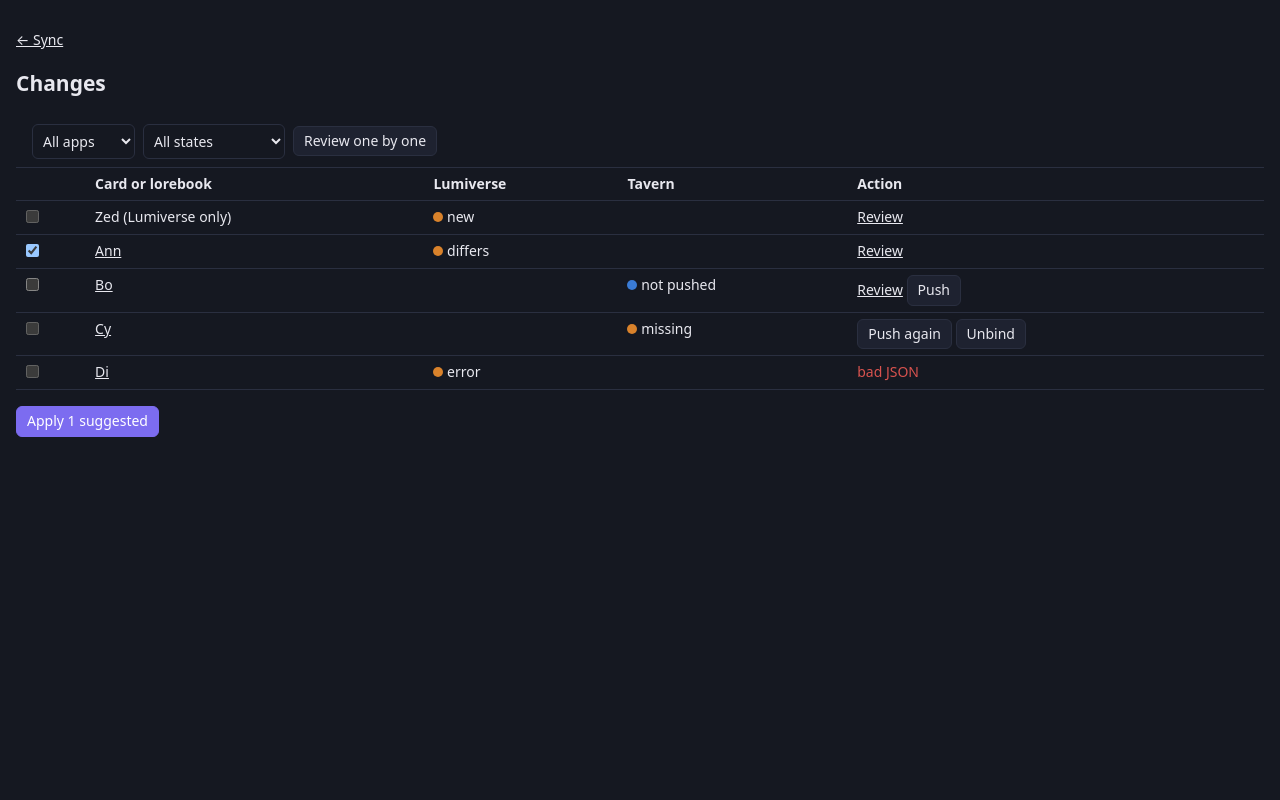
Test: Apply suggested resolves the checked reviews
Expected: the row "Bo not pushed Review Push" is shown, top-left (16, 269), bottom-right (1264, 312)
Click the button "Apply 1 suggested": (88, 422) top-left (16, 406), bottom-right (159, 437)
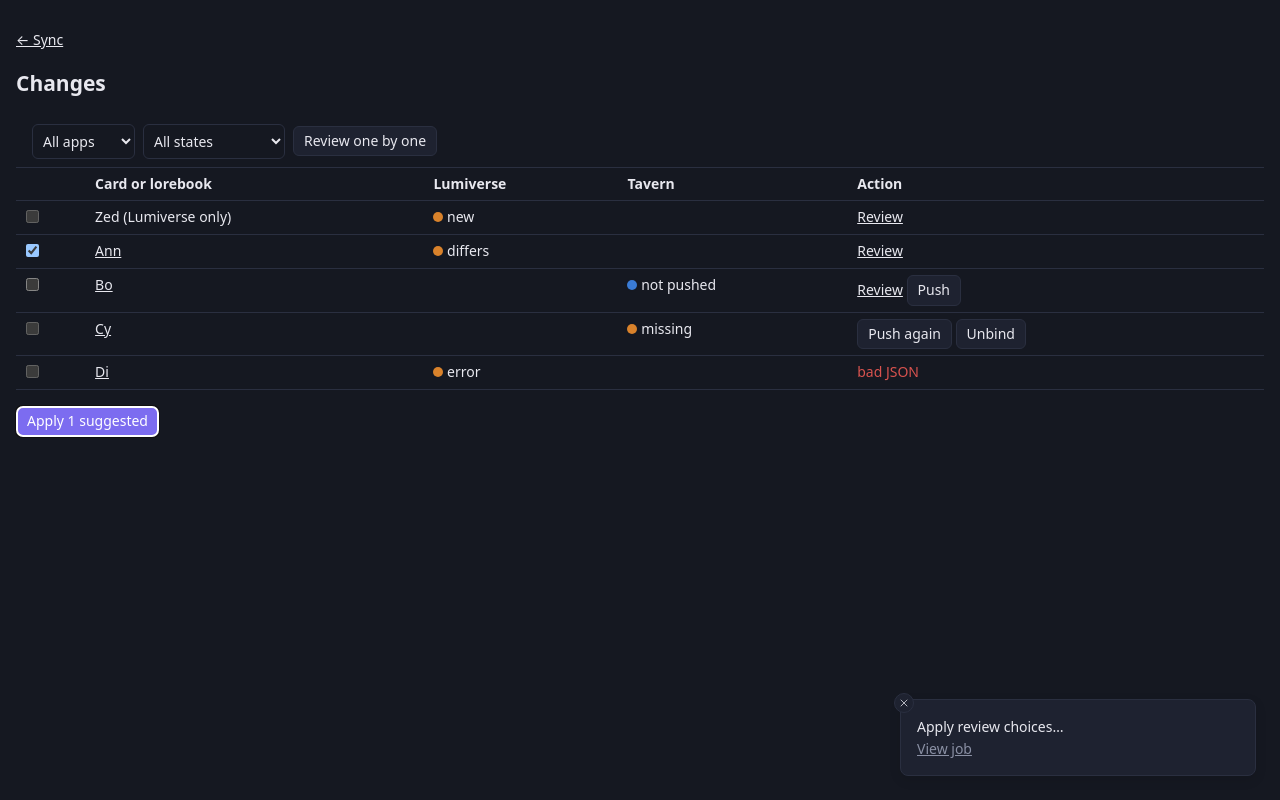
Now the text "Apply review choices…" is shown, box top-left (917, 716), bottom-right (1064, 737)
